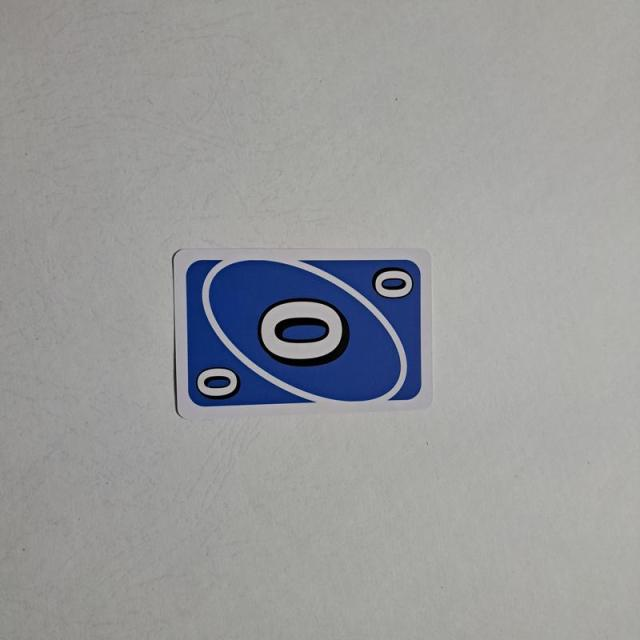Blue_Card: (180, 255, 431, 410)
Number_0: (370, 263, 418, 303)
